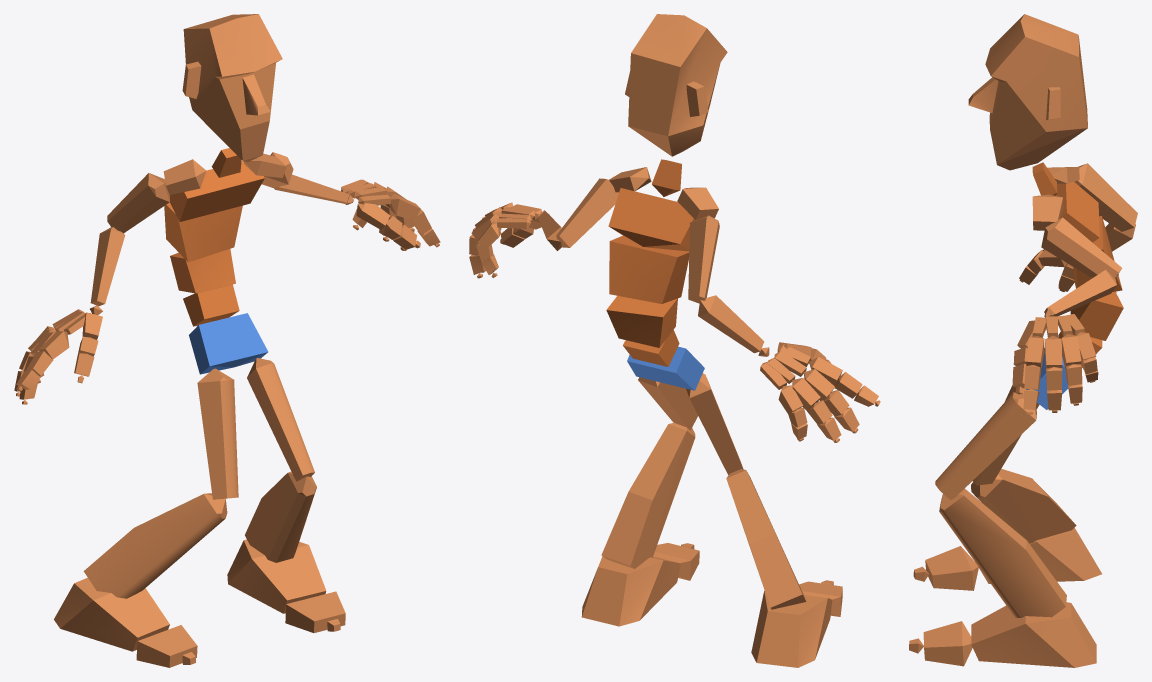
The picture shows the model from 3 angles, left to right: view 1: azimuth 30°, elevation 25°; view 2: azimuth 150°, elevation 25°; view 3: azimuth 270°, elevation 25°; orthographic projection. The views are drawn at different scales.
Parts seen in each view (by area): view 1: BOPED_Head, BOPED_R_leg, BOPED_R_foot, BOPED_R_foot01, BOPED_L_leg, BOPED_R_legup, BOPED_L_legup, Bone01, Bone04, Bone05, Bone03, BOPED_R_arm_upper (+8 smaller); view 2: BOPED_Head, BOPED_L_leg, BOPED_R_foot01, BOPED_R_foot, BOPED_R_leg, Bone04, Bone05, Bone03, BOPED_R_arm_upper, BOPED_R_legup, BOPED_L_arm_upper, Bone01 (+8 smaller); view 3: BOPED_Head, BOPED_L_leg, BOPED_R_foot01, BOPED_R_leg, BOPED_L_legup, BOPED_R_foot, BOPED_L_arm_upper, BOPED_R_arm_upper, BOPED_R_foot_toe01, BOPED_R_foot_toe04, Bone05, Bone03 (+14 smaller).
Boxes of the visible parts, <box> form: BOPED_Head: <box>182,14,282,162</box>; BOPED_R_leg: <box>83,493,227,598</box>; BOPED_R_foot: <box>54,577,169,651</box>; BOPED_R_foot01: <box>227,539,326,613</box>; BOPED_L_leg: <box>245,471,316,562</box>; BOPED_R_legup: <box>197,368,238,499</box>; BOPED_L_legup: <box>247,358,314,481</box>; Bone01: <box>189,313,268,374</box>; Bone04: <box>164,202,242,262</box>; Bone05: <box>170,161,264,221</box>; Bone03: <box>170,249,235,293</box>; BOPED_R_arm_upper: <box>107,173,169,233</box>; BOPED_Head: <box>625,14,727,156</box>; BOPED_L_leg: <box>601,423,695,568</box>; BOPED_R_foot01: <box>581,556,680,626</box>; BOPED_R_foot: <box>751,590,832,667</box>; BOPED_R_leg: <box>726,469,806,609</box>; Bone04: <box>609,235,689,303</box>; Bone05: <box>608,188,695,251</box>; Bone03: <box>606,296,677,347</box>; BOPED_R_arm_upper: <box>688,215,719,303</box>; BOPED_R_legup: <box>686,373,743,474</box>; BOPED_L_arm_upper: <box>556,178,618,247</box>; Bone01: <box>627,346,704,390</box>; BOPED_Head: <box>968,14,1087,170</box>; BOPED_L_leg: <box>939,488,1066,617</box>; BOPED_R_foot01: <box>971,602,1096,667</box>; BOPED_R_leg: <box>971,469,1076,543</box>; BOPED_L_legup: <box>935,392,1036,499</box>; BOPED_R_foot: <box>979,528,1101,583</box>; BOPED_L_arm_upper: <box>1041,217,1121,278</box>; BOPED_R_arm_upper: <box>1074,163,1137,231</box>; BOPED_R_foot_toe01: <box>925,546,978,590</box>; BOPED_R_foot_toe04: <box>923,621,972,666</box>; Bone05: <box>1056,182,1099,242</box>; Bone03: <box>1070,291,1123,340</box>.
Bounding box in the file's own units: 130 × 177 × 60.22.
